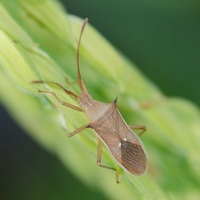insect: (32, 18, 146, 182)
